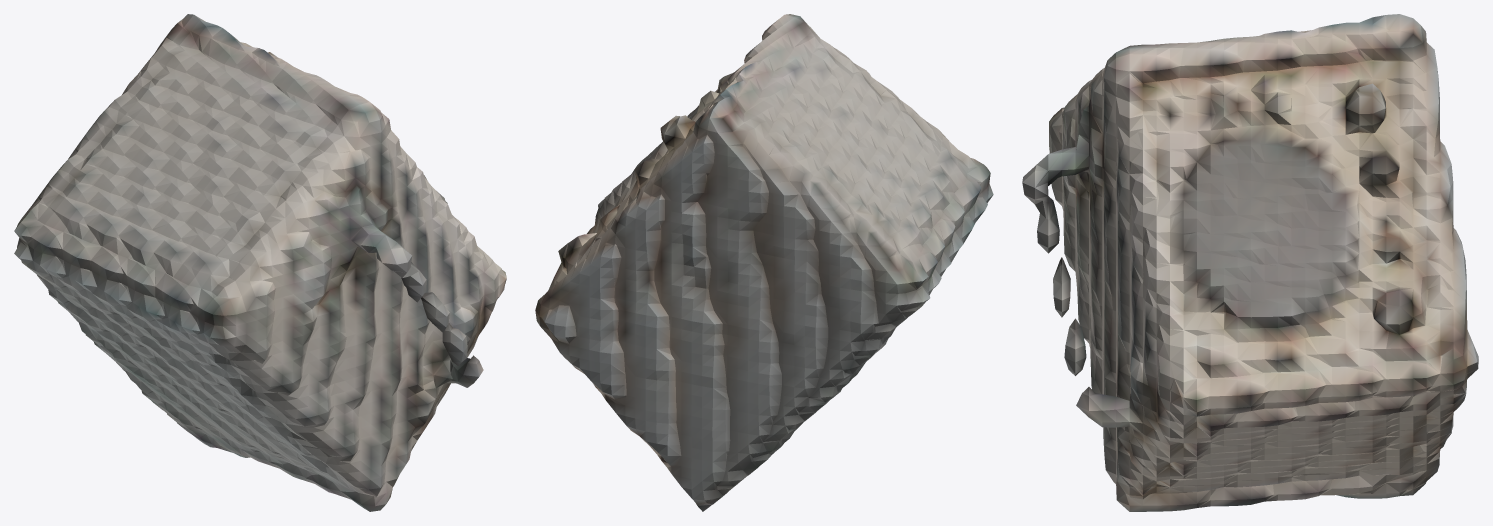
The picture shows the model from 3 angles, left to right: view 1: azimuth 30°, elevation 25°; view 2: azimuth 150°, elevation 25°; view 3: azimuth 270°, elevation 25°; orthographic projection. The views are drawn at different scales.
Parts seen in each view (by area): view 1: world; view 2: world; view 3: world.
Boxes of the visible parts, bbox=[...] form: world: bbox=[14, 14, 506, 511]; world: bbox=[535, 14, 993, 511]; world: bbox=[1022, 14, 1478, 511].
Bounding box in the file's own units: 1.09 × 1.07 × 0.9328.
